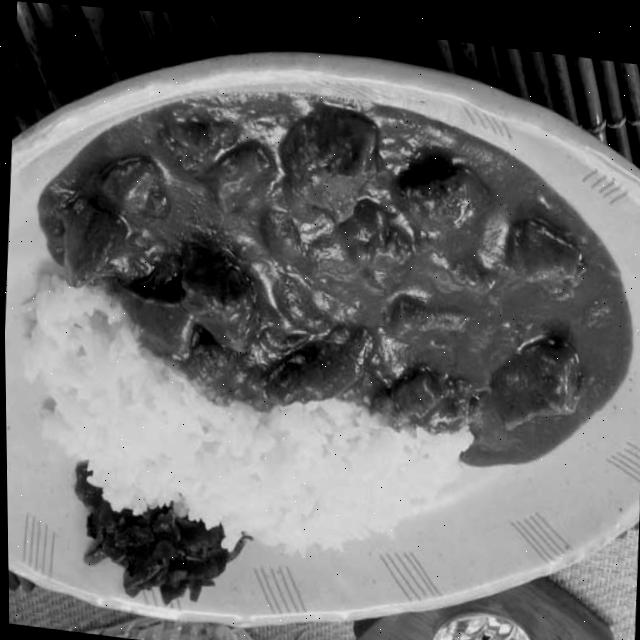牛肉菜式: (1, 46, 640, 640)
